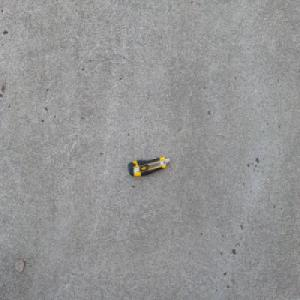Cutter: (127, 156, 170, 177)
